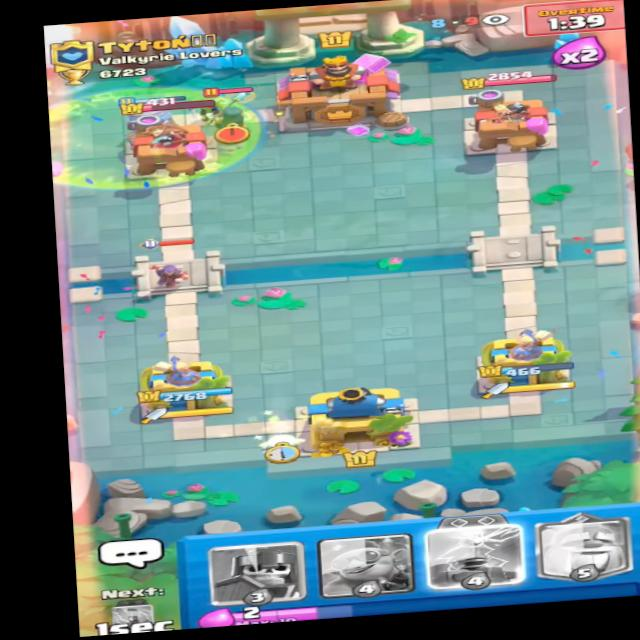evo-wizard: (129, 236, 213, 291)
night-witch: (206, 84, 264, 143)
